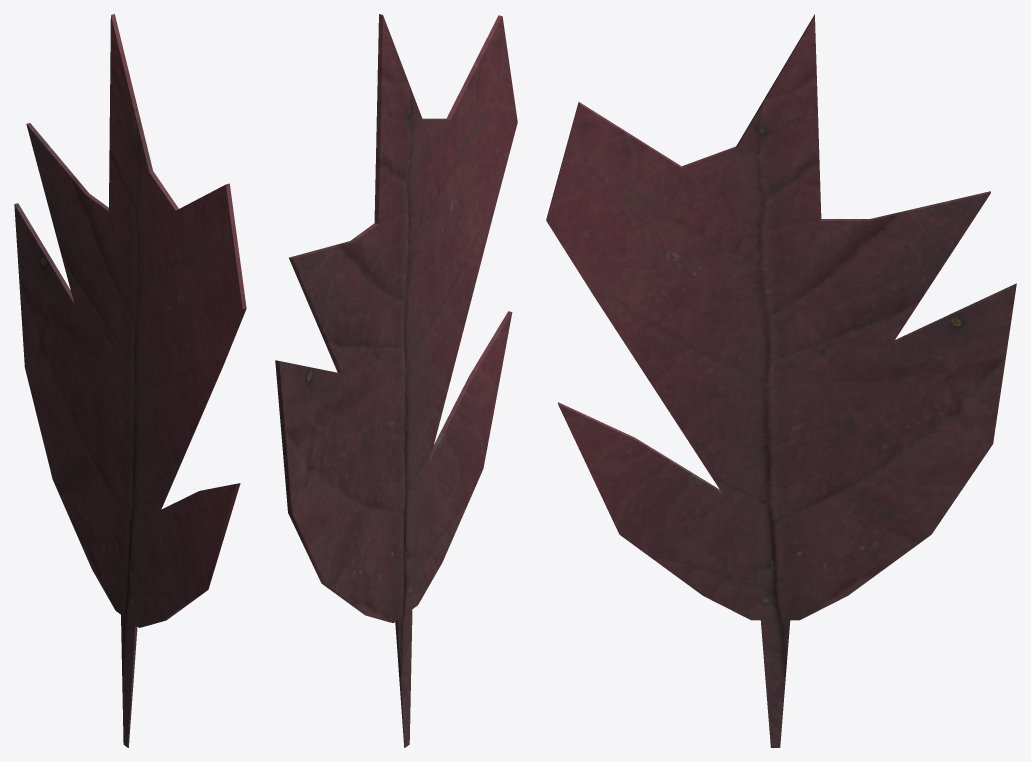
The model's file is Leaf1Cut.fbx.
3 views of the same model, side by side, from view 1: azimuth 30°, elevation 25°; view 2: azimuth 150°, elevation 25°; view 3: azimuth 270°, elevation 25° (orthographic). The views are drawn at different scales.
Parts seen in each view (by area): view 1: leaf1Cut; view 2: leaf1Cut; view 3: leaf1Cut.
Part boxes in pixels (x1,y1,x2,y2): leaf1Cut: [14, 14, 246, 747]; leaf1Cut: [275, 14, 517, 747]; leaf1Cut: [546, 14, 1016, 747].
Size of the model in its own units: 0.3546 by 24.78 by 14.35.
